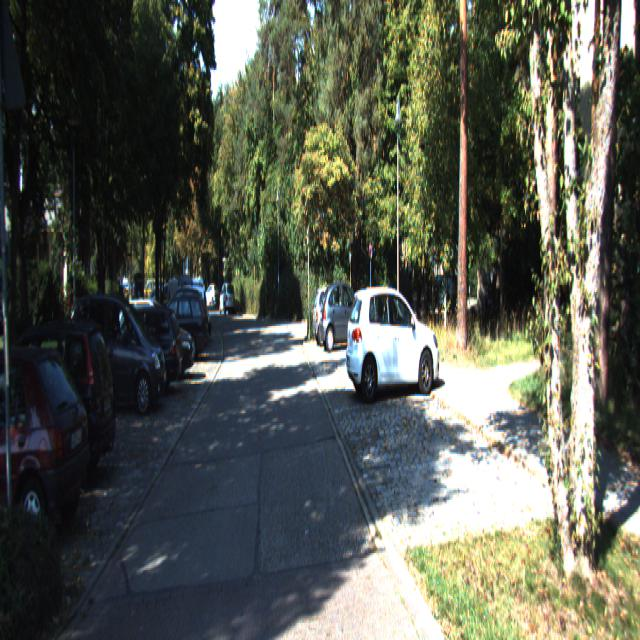Car: (0, 312, 121, 500), (0, 337, 95, 552), (62, 293, 165, 426), (343, 288, 440, 406), (92, 299, 184, 396), (113, 298, 195, 388), (148, 291, 209, 364), (318, 282, 370, 355), (218, 282, 236, 315)
